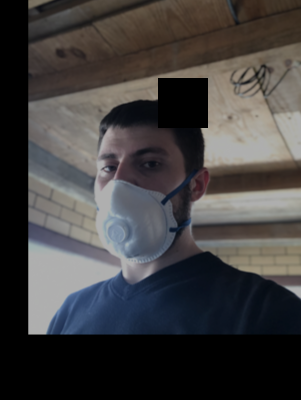with_mask: (94, 139, 184, 264)
